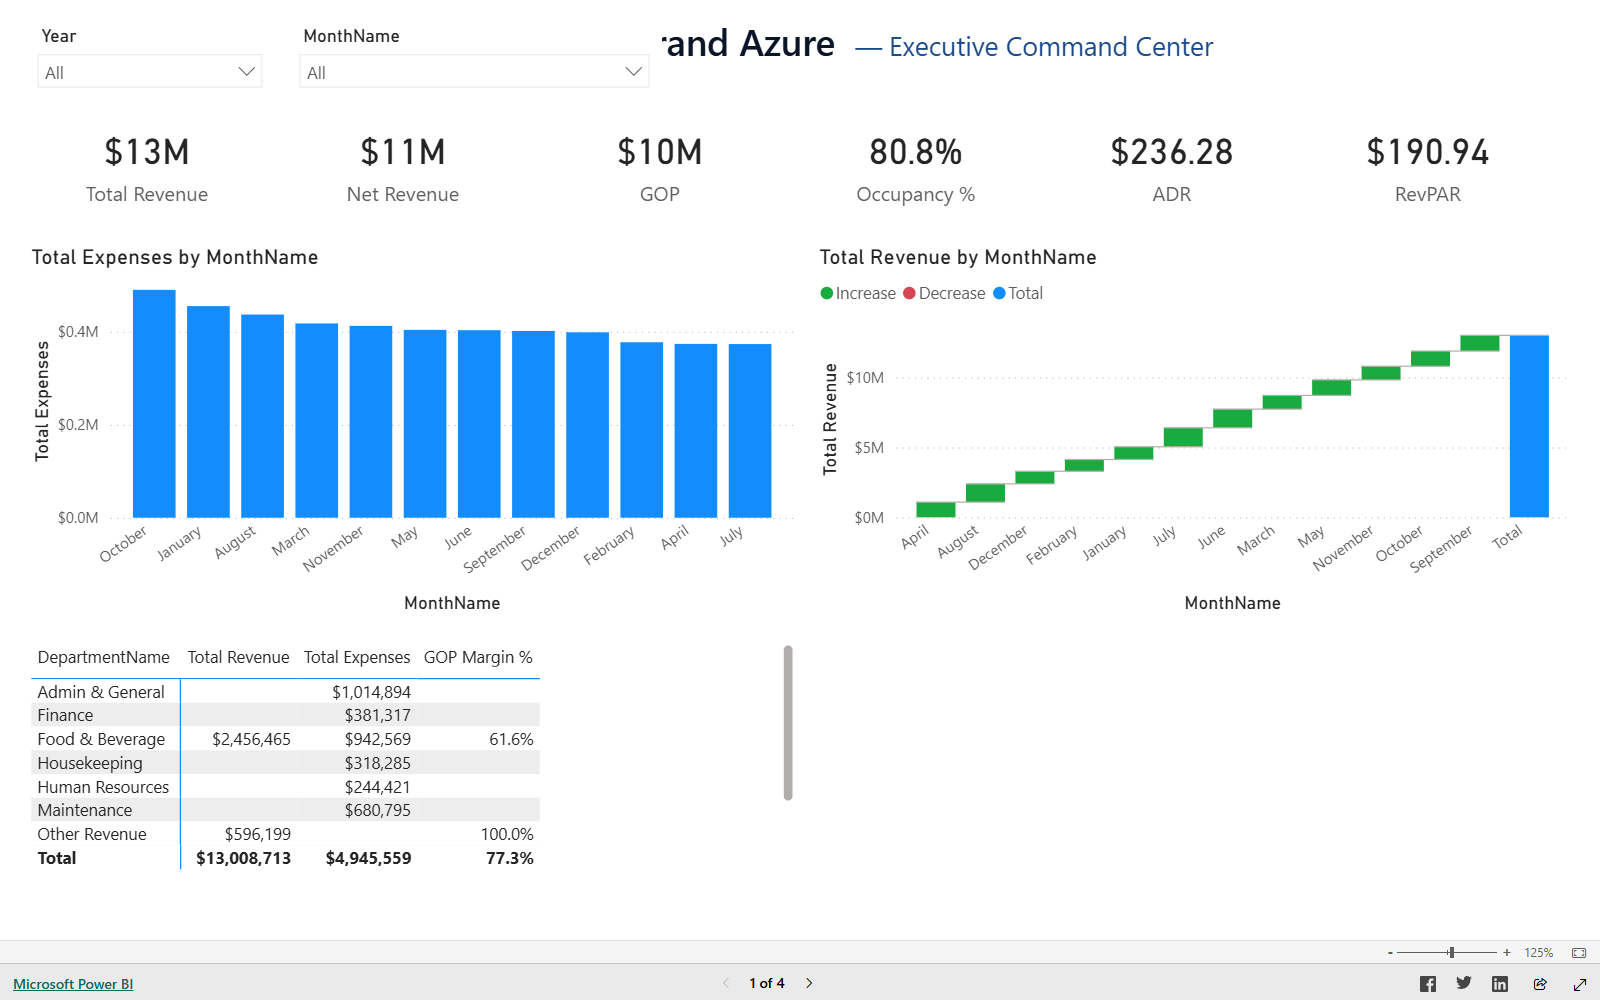

Layout of this report page (visuals, bound fields, positions):
{"tool":"powerbi","page":{"name":"Executive Command Center","canvas":[1280,720],"ordinal":0},"visuals":[{"type":"card","fields":{"Values":["_Measures.Total Revenue"]},"box":[20,80,195,100],"z":0},{"type":"card","fields":{"Values":["_Measures.Net Revenue"]},"box":[225,80,195,100],"z":1},{"type":"card","fields":{"Values":["_Measures.GOP"]},"box":[430,80,195,100],"z":2},{"type":"card","fields":{"Values":["_Measures.Occupancy %"]},"box":[635,80,195,100],"z":3},{"type":"card","fields":{"Values":["_Measures.ADR"]},"box":[840,80,195,100],"z":4},{"type":"card","fields":{"Values":["_Measures.RevPAR"]},"box":[1045,80,195,100],"z":5},{"type":"lineStackedColumnComboChart","fields":{"Category":["Dim_Date.MonthName"],"ColumnY":["_Measures.Total Revenue","_Measures.Total Expenses"],"Y":["_Measures.Total Expenses"]},"box":[20,195,620,300],"z":6},{"type":"waterfallChart","fields":{"Category":["Dim_Date.MonthName"],"Y":["_Measures.Total Revenue"]},"box":[650,195,610,300],"z":7},{"type":"pivotTable","fields":{"Rows":["Dim_Department.DepartmentName"],"Values":["_Measures.Total Revenue","_Measures.Total Expenses","_Measures.GOP Margin %"]},"box":[20,510,620,190],"z":8},{"type":"slicer","fields":{"Values":["Dim_Date.Year"]},"box":[19.9,14.8,199.9,56.3],"z":9},{"type":"slicer","fields":{"Values":["Dim_Date.MonthName"]},"box":[230,14.8,299.9,56.3],"z":10}]}

Visuals, with their boxes on the page's 1280x720 design canvas (x1, y1, x2, y2). These are canvas units, not pixel positions in the 1600x1000 screenshot, which may show the page scaled, cropped or inside an application window:
card - _Measures.Total Revenue: Rect(20, 80, 215, 180)
card - _Measures.Net Revenue: Rect(225, 80, 420, 180)
card - _Measures.GOP: Rect(430, 80, 625, 180)
card - _Measures.Occupancy %: Rect(635, 80, 830, 180)
card - _Measures.ADR: Rect(840, 80, 1035, 180)
card - _Measures.RevPAR: Rect(1045, 80, 1240, 180)
lineStackedColumnComboChart - Dim_Date.MonthName x _Measures.Total Revenue: Rect(20, 195, 640, 495)
waterfallChart - Dim_Date.MonthName x _Measures.Total Revenue: Rect(650, 195, 1260, 495)
pivotTable - Dim_Department.DepartmentName x _Measures.Total Revenue: Rect(20, 510, 640, 700)
slicer - Dim_Date.Year: Rect(20, 15, 220, 71)
slicer - Dim_Date.MonthName: Rect(230, 15, 530, 71)
